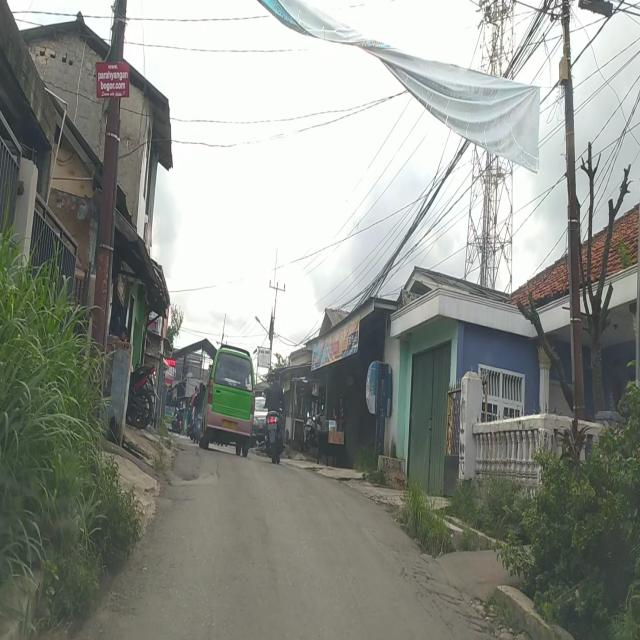Drain Hole: (406, 563, 484, 634)
